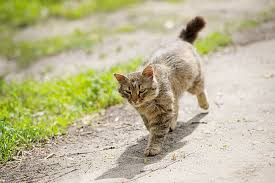cat: (112, 16, 211, 158)
